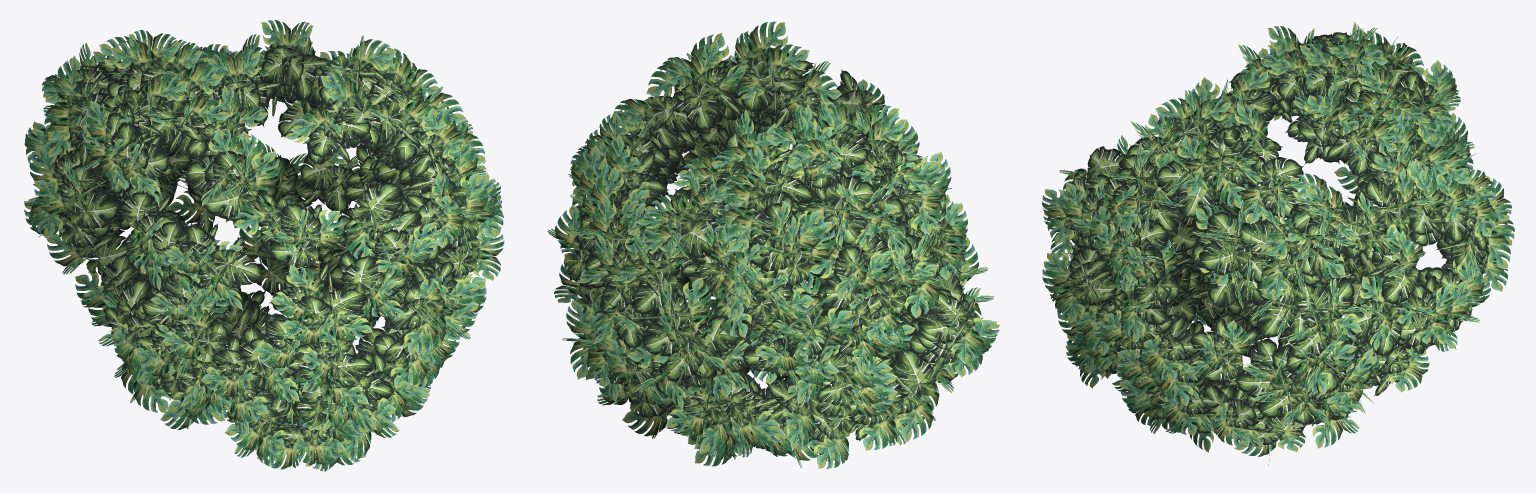
File: Tree4Top.fbx
3 renders of one model, left to right at view 1: azimuth 30°, elevation 25°; view 2: azimuth 150°, elevation 25°; view 3: azimuth 270°, elevation 25°, orthographic. The views are drawn at different scales.
Parts seen in each view (by area): view 1: Leaf4; view 2: Leaf4; view 3: Leaf4.
Part boxes in pixels (x1,y1,x2,y2): Leaf4: (24,20,504,471); Leaf4: (547,21,999,468); Leaf4: (1041,22,1514,466).
Bounding box in the file's own units: 21.1 × 21.06 × 23.92.
